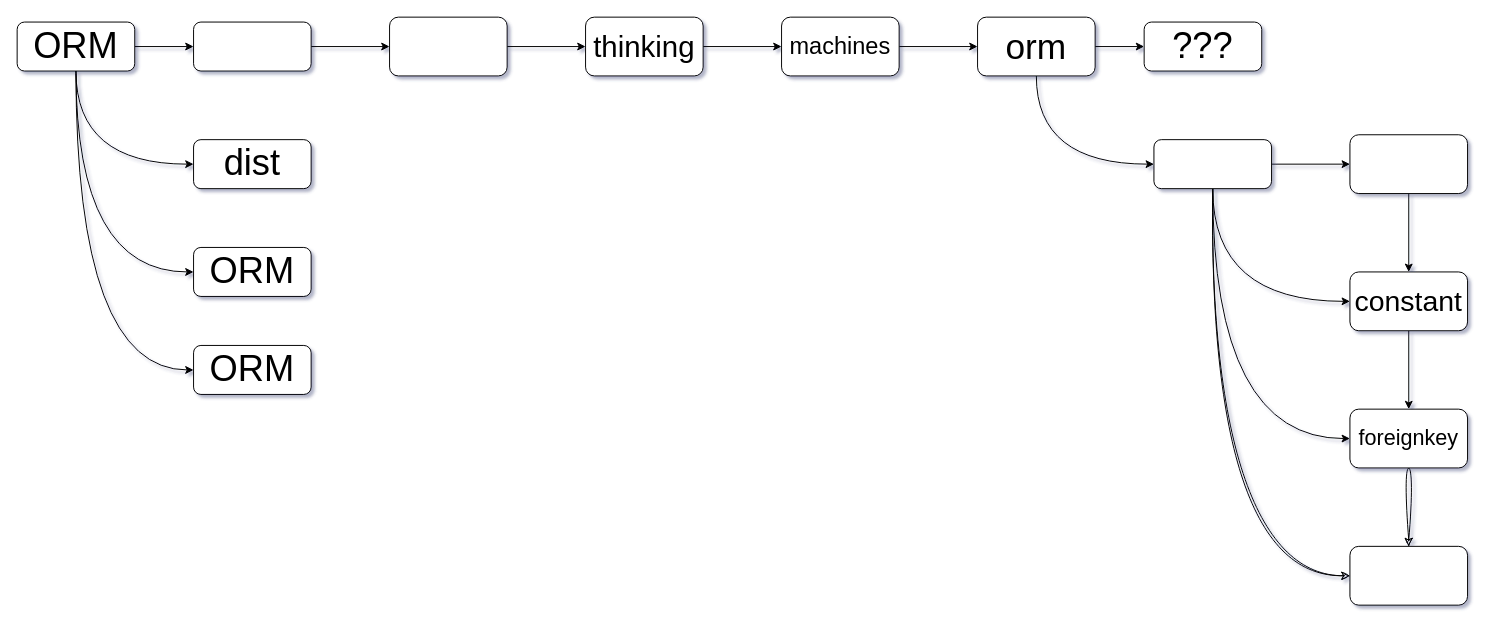
Some shapes in this 1491 by 628 pixel diagram are drawn without their labels. Each missing label, with the centre of its shape:
"com" goes at pixel 448 46.
"json" goes at pixel 1408 575.
"src" goes at pixel 252 46.
"string" goes at pixel 1408 164.
"util" goes at pixel 1212 164.
